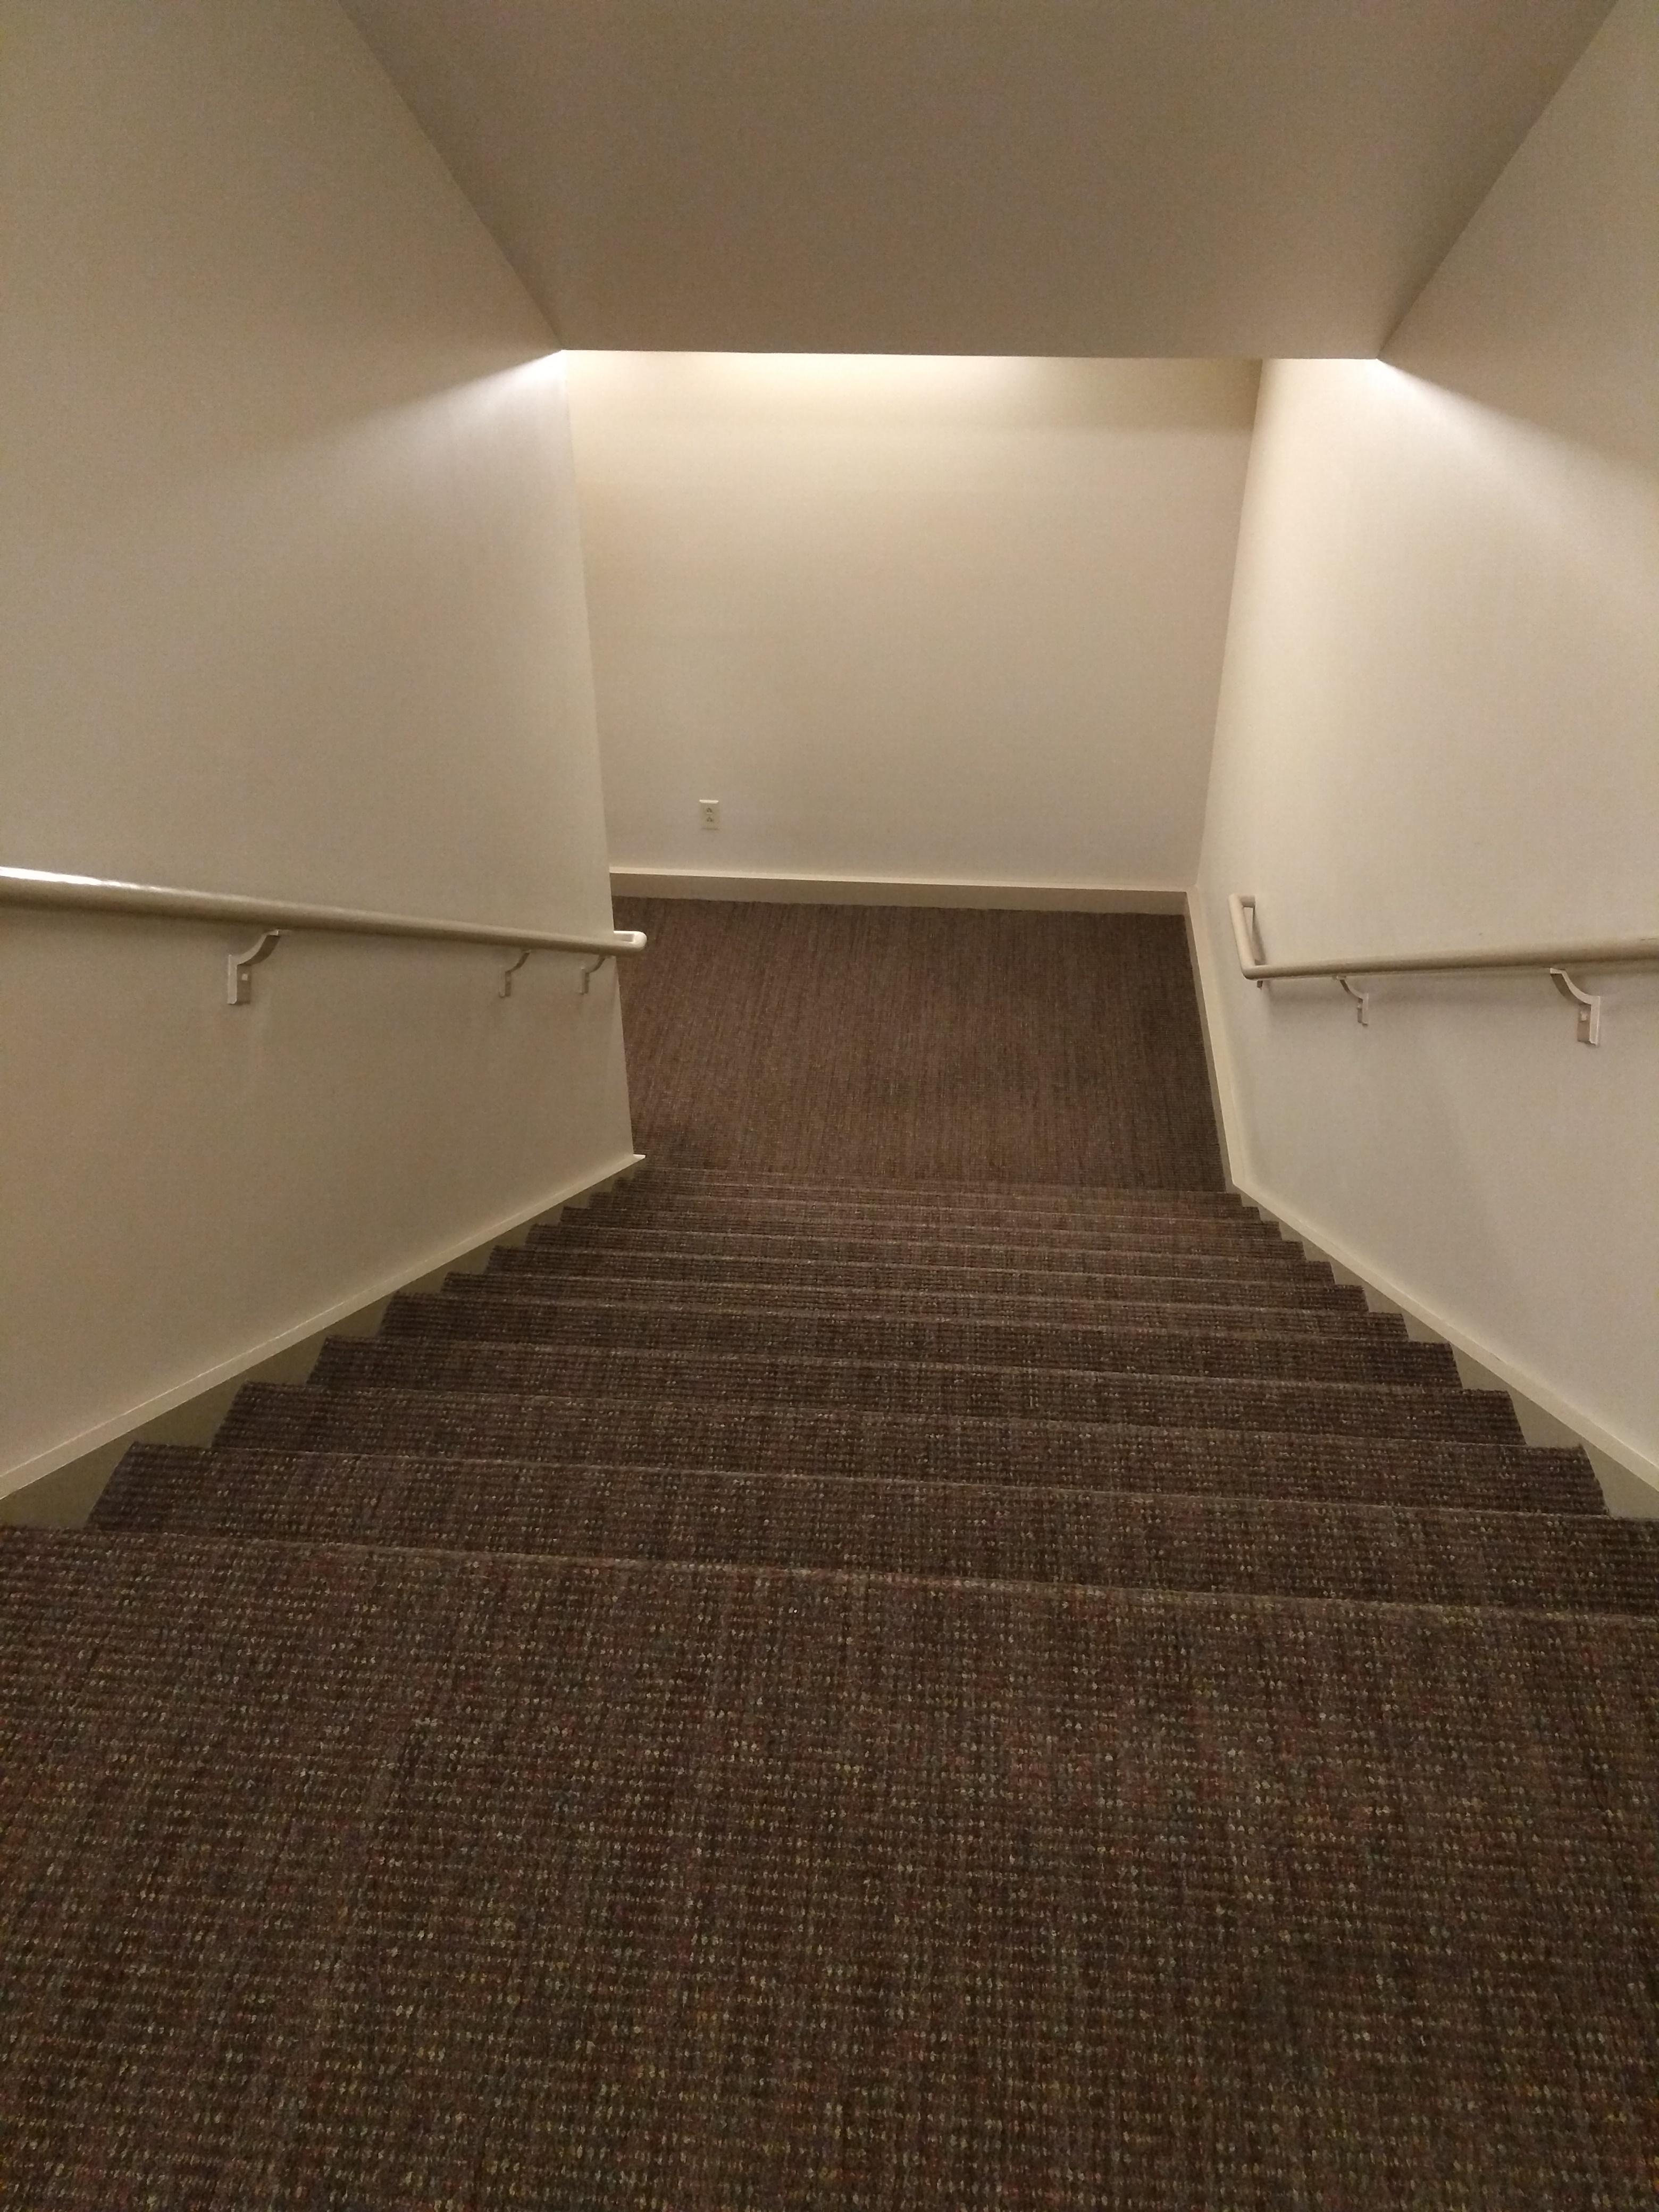stairs_down: (30, 1111, 1659, 1691)
